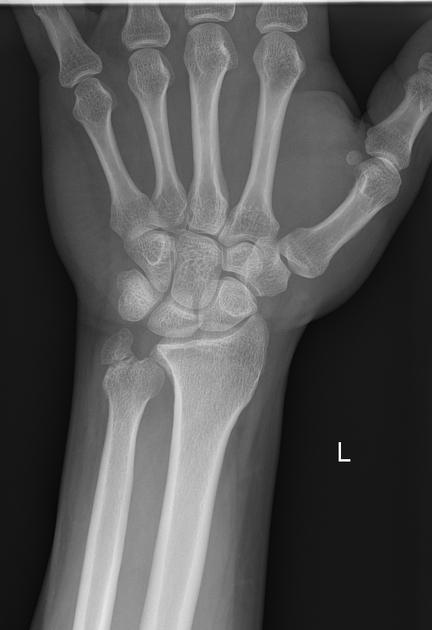fractured: (96, 330, 168, 406)
